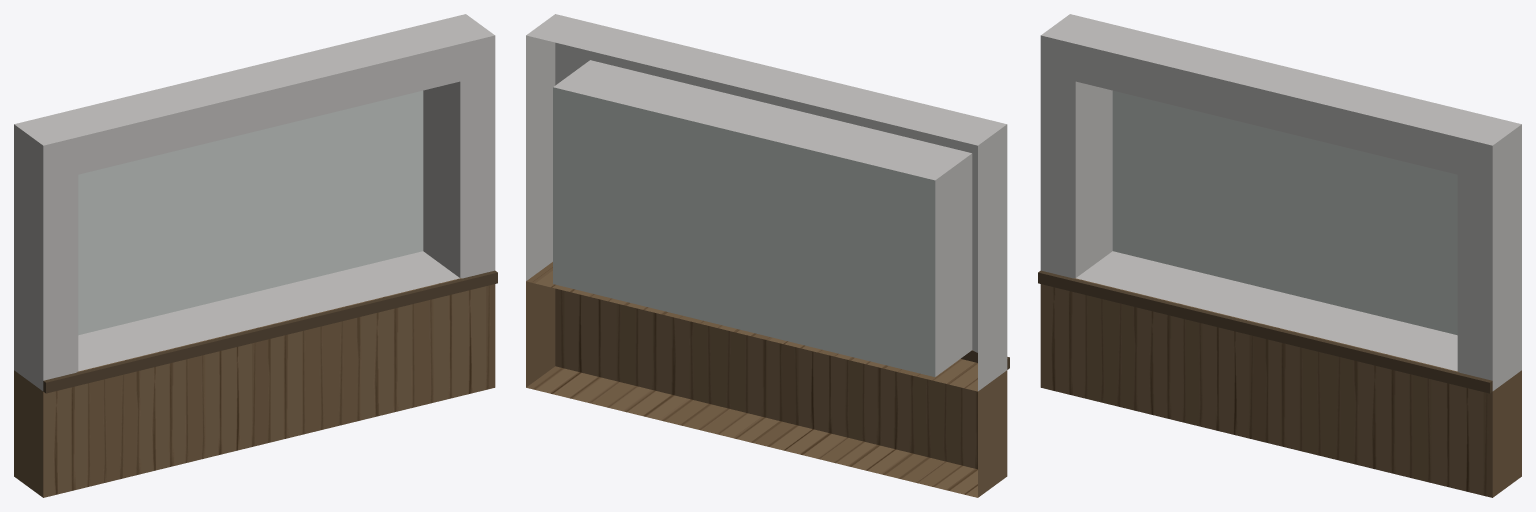
File: SM_Env_Wall_25.fbx
3 views of the same model, side by side, from view 1: azimuth 30°, elevation 25°; view 2: azimuth 150°, elevation 25°; view 3: azimuth 330°, elevation 25° (orthographic).
Visible parts, largest first — view 1: SM_Env_Wall_25; view 2: SM_Env_Wall_25; view 3: SM_Env_Wall_25.
Boxes of the visible parts, box(x1,y1,x2,y2) form: SM_Env_Wall_25: box(14, 14, 497, 497); SM_Env_Wall_25: box(526, 14, 1009, 497); SM_Env_Wall_25: box(1038, 14, 1521, 497).
Bounding box in the file's own units: 342 × 255 × 52.22.
Materials: 1 (1 with a texture image).
